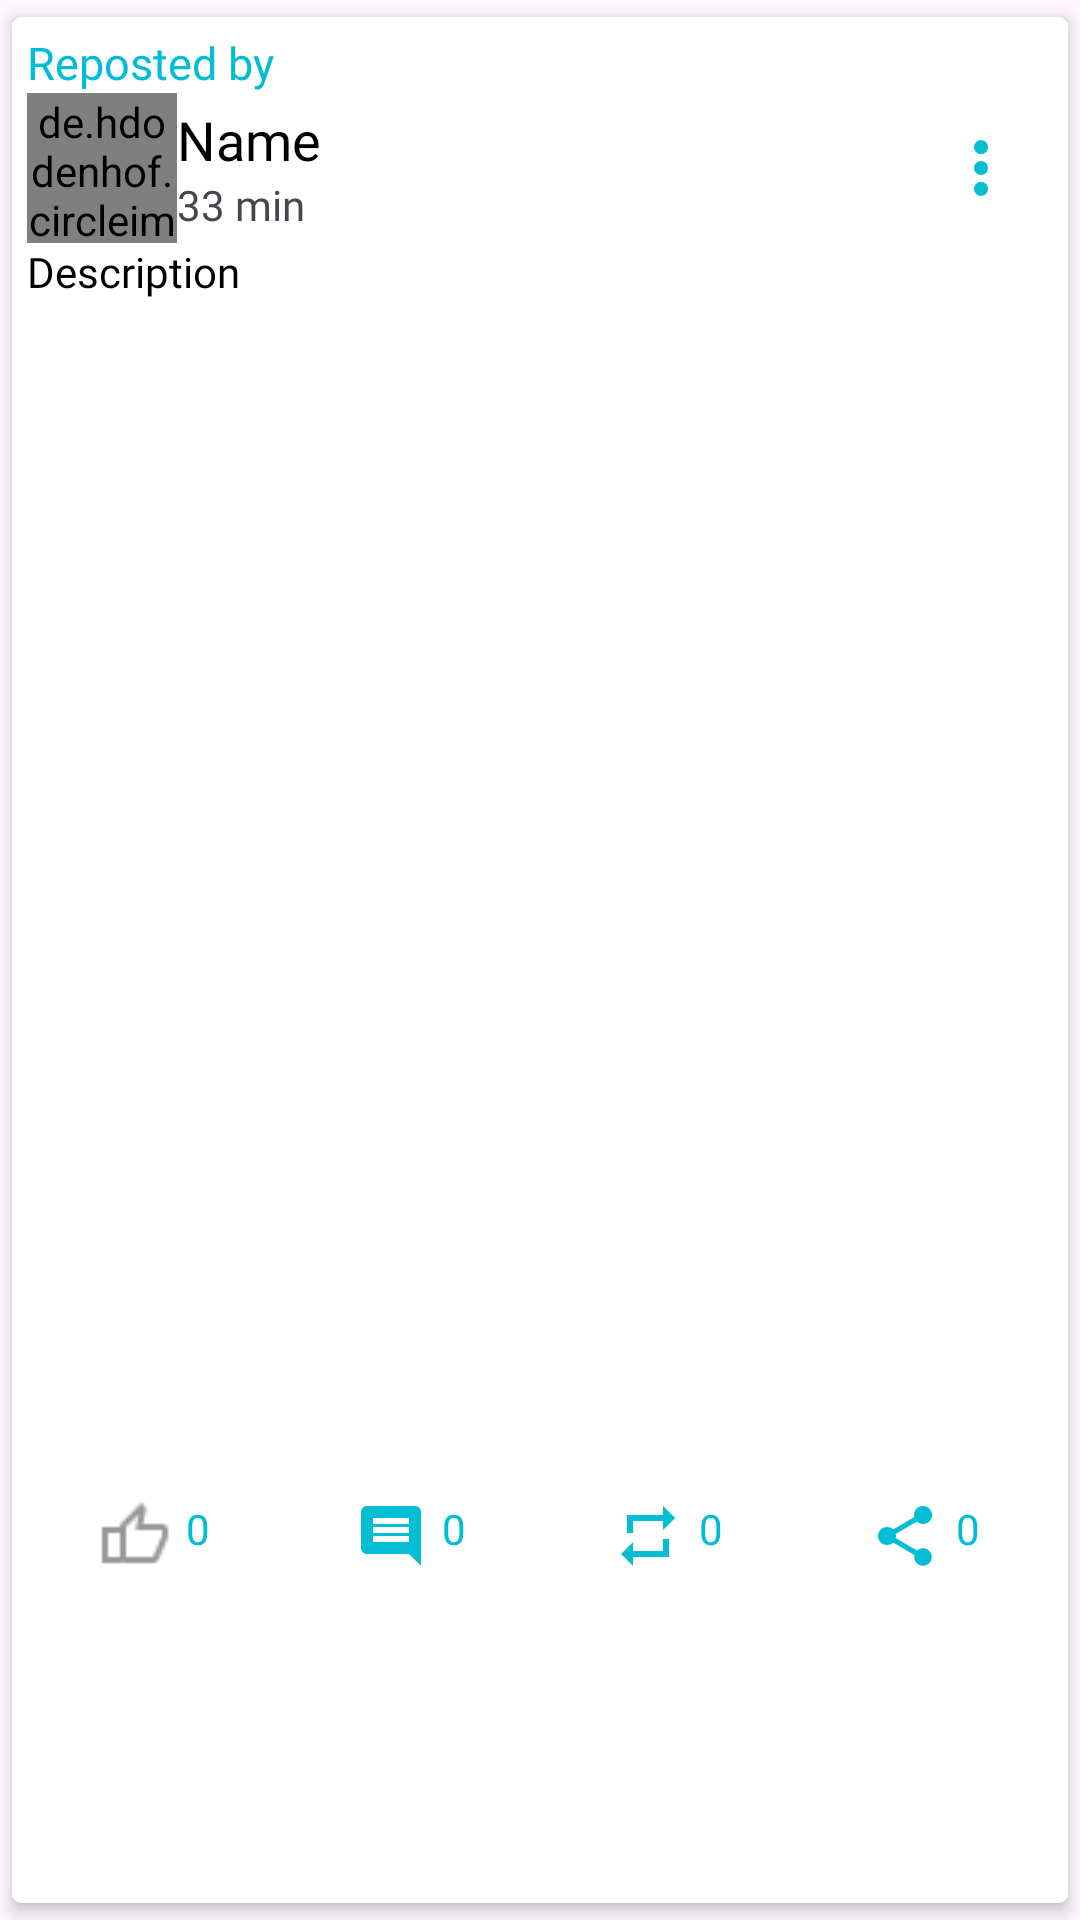

Screen size 1080 x 1920. Icon name, then its center in pixels as (x=x, y=y):
comment: (x=391, y=1536)
like: (x=135, y=1533)
more: (x=981, y=168)
repost: (x=648, y=1536)
share: (x=905, y=1536)
